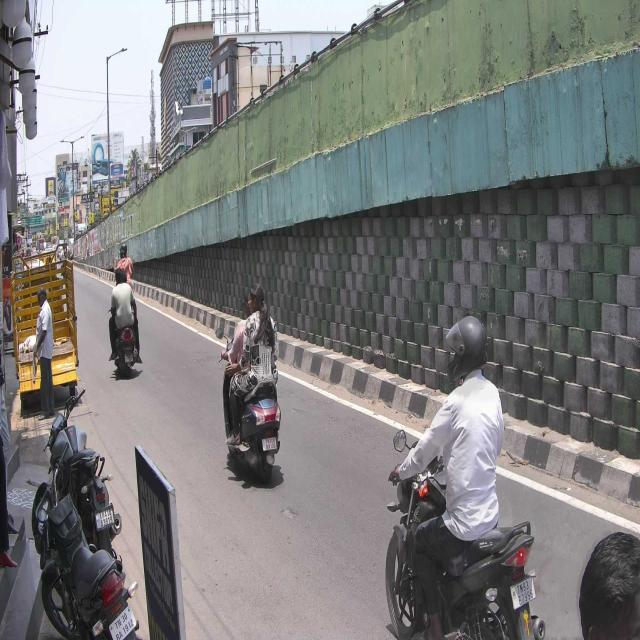double_rider: (215, 282, 282, 487)
single_rider: (384, 317, 547, 640)
